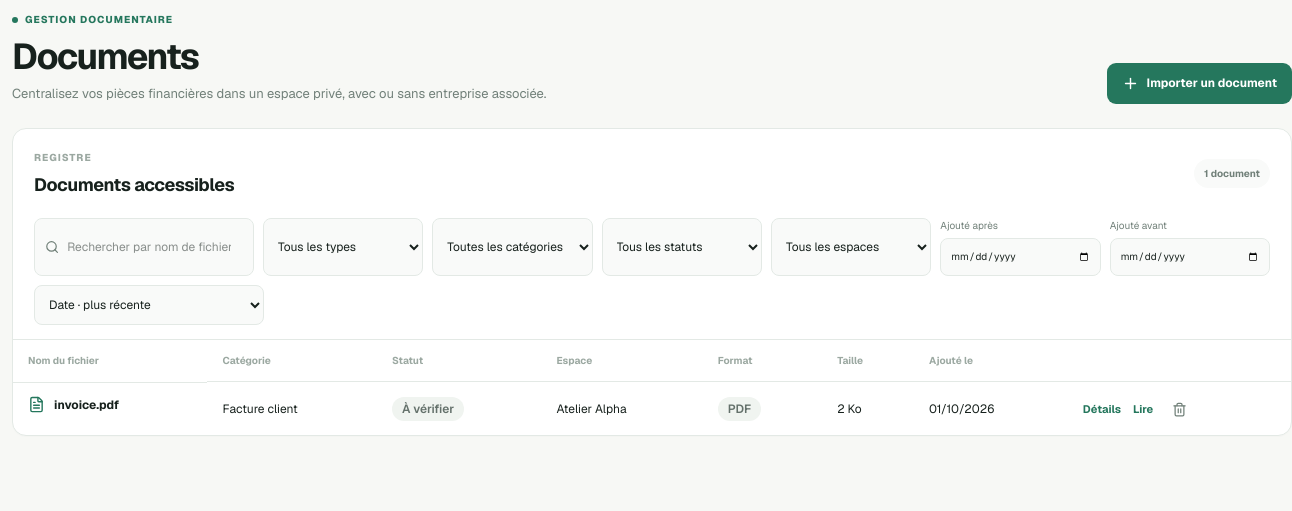
Scenario: document manager › confirms successful deletion in the interface
What coordinates should you click on to do the following:
click the button named "Supprimer invoice.pdf"
I would click on:
 (1179, 409)
Its box is [1165,395,1193,423].
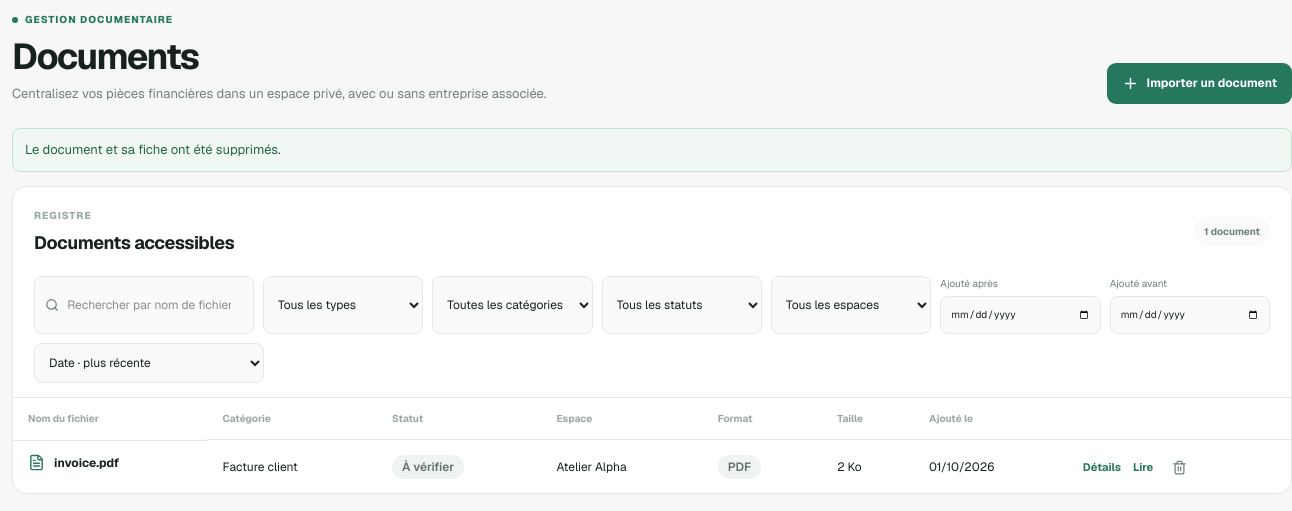
Now the message reads "Le document et sa fiche ont été supprimés.", box [25,141,281,158]
